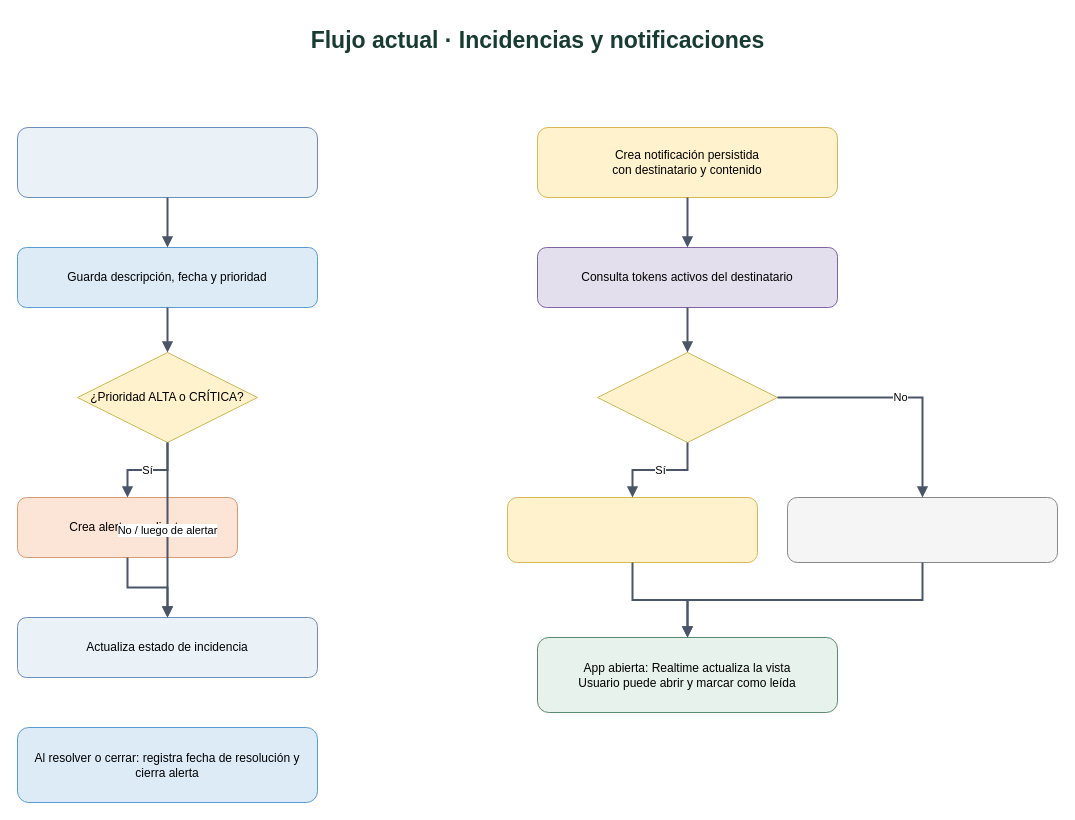
Some shapes in this 1075 by 820 pixel diagram are drawn without their labels. Here are the shapes that lost their labels. From the top down, the centre of each, then its label:
At (167,162): "Gestor o administrador registra incidencia (práctica no finalizada)".
At (687,397): "¿Hay token y Firebase configurado?".
At (632,529): "Envía push vía FCM Android lo presenta en sistema".
At (922,529): "Sin push: permanece en la bandeja de la app".
